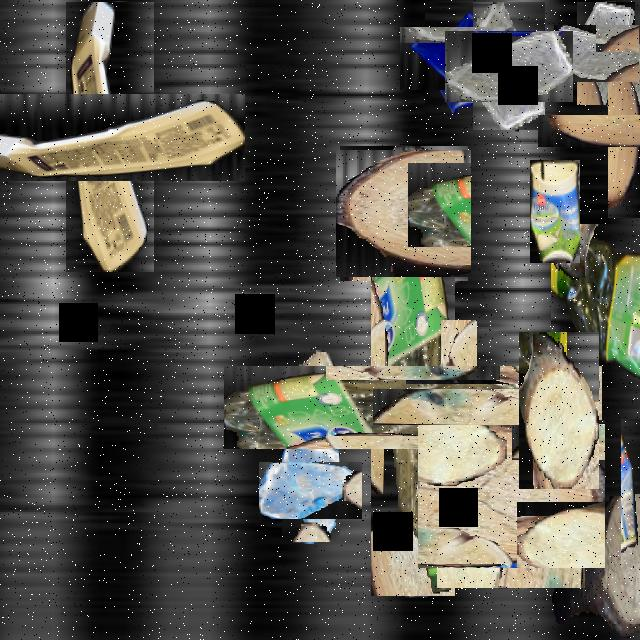glass: (459, 16, 559, 116), (412, 14, 502, 103), (271, 450, 351, 531), (565, 13, 640, 93)
plastic: (297, 292, 528, 522), (21, 48, 200, 226), (551, 224, 640, 388), (530, 160, 580, 263), (621, 420, 640, 566)
wood: (427, 410, 595, 578), (338, 148, 470, 279), (551, 496, 640, 638), (519, 332, 599, 489), (406, 354, 512, 460), (572, 80, 640, 183), (289, 350, 337, 457), (0, 110, 28, 166)
